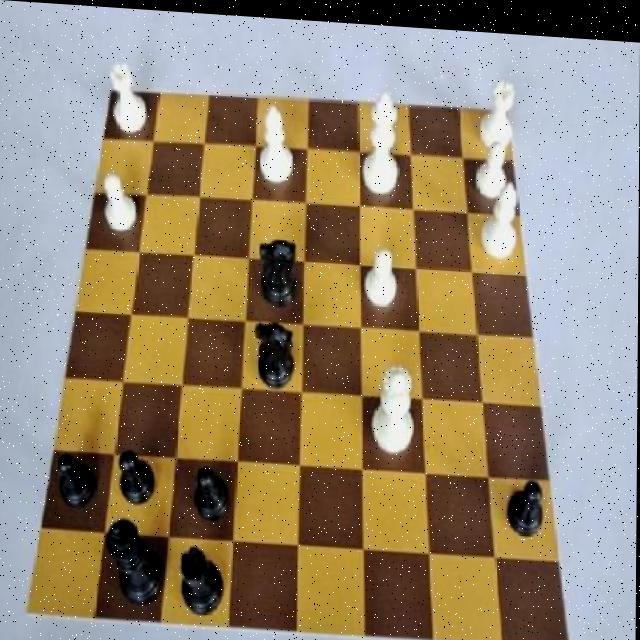black-bishop: (103, 513, 169, 609)
black-king: (256, 227, 304, 313), (252, 312, 301, 395)
black-knight: (111, 438, 164, 516), (500, 462, 550, 539), (49, 444, 101, 516), (189, 456, 233, 526)
black-queen: (173, 539, 225, 620)
black-rook: (251, 93, 300, 191), (479, 168, 523, 266)
white-bishop: (360, 82, 406, 197)
white-knight: (360, 237, 408, 311), (95, 170, 140, 244), (473, 125, 510, 199)
white-pawn: (371, 351, 418, 452)
white-queen: (102, 48, 154, 137), (470, 68, 519, 151)
